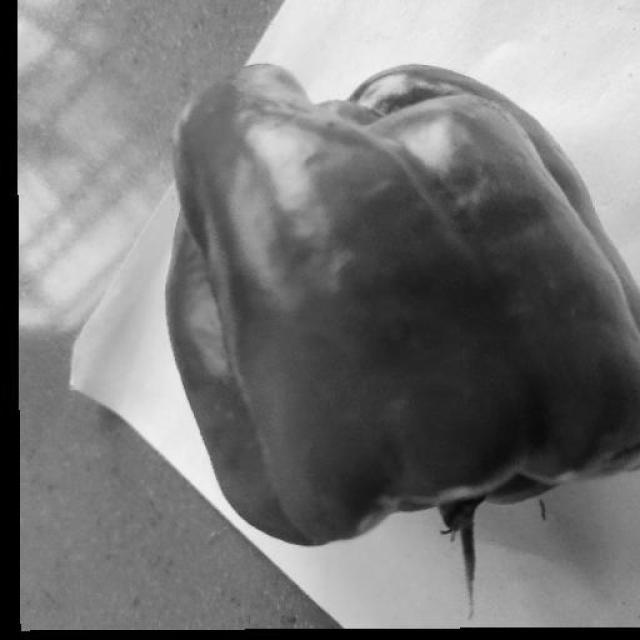Stale_Capsicum: (187, 101, 571, 497)
